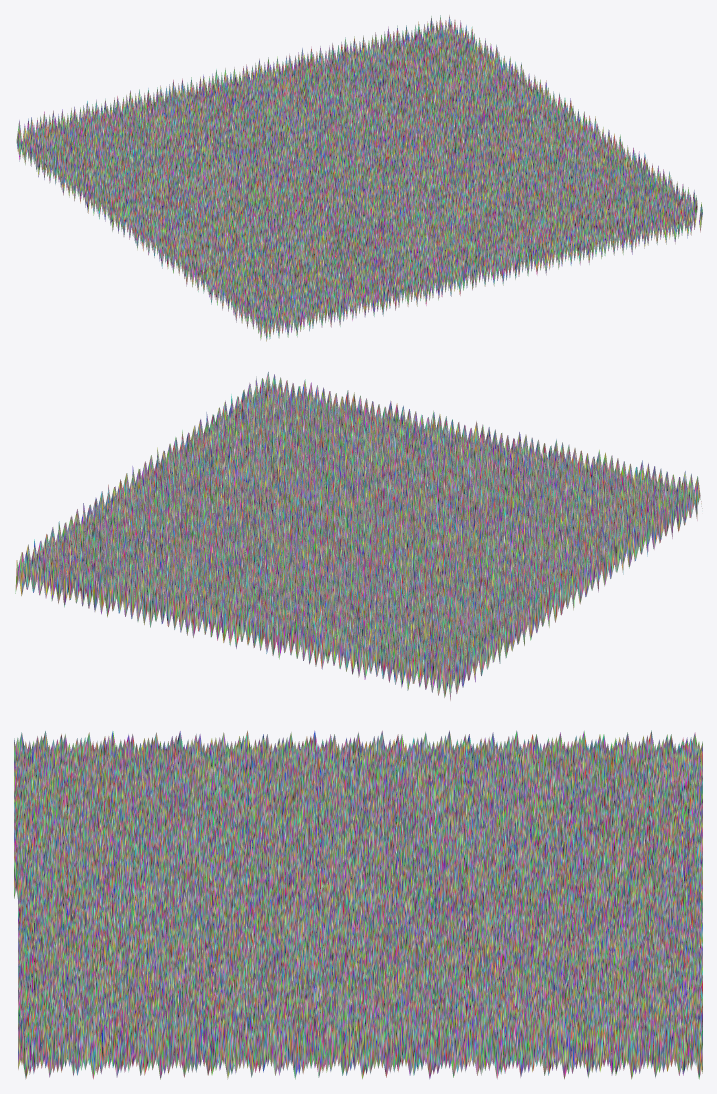
Rendered from hero.glb.
The picture shows the model from 3 angles, top to bottom: view 1: azimuth 30°, elevation 25°; view 2: azimuth 150°, elevation 25°; view 3: azimuth 270°, elevation 25°; orthographic projection. The views are drawn at different scales.
Parts seen in each view (by area): view 1: hero; view 2: hero; view 3: hero.
Boxes of the visible parts, <box> form: hero: <box>16,15,702,341</box>; hero: <box>15,372,702,700</box>; hero: <box>14,730,702,1079</box>.
Bounding box in the file's own units: 1 × 0.0941 × 1.
1 material, 1 textured.
